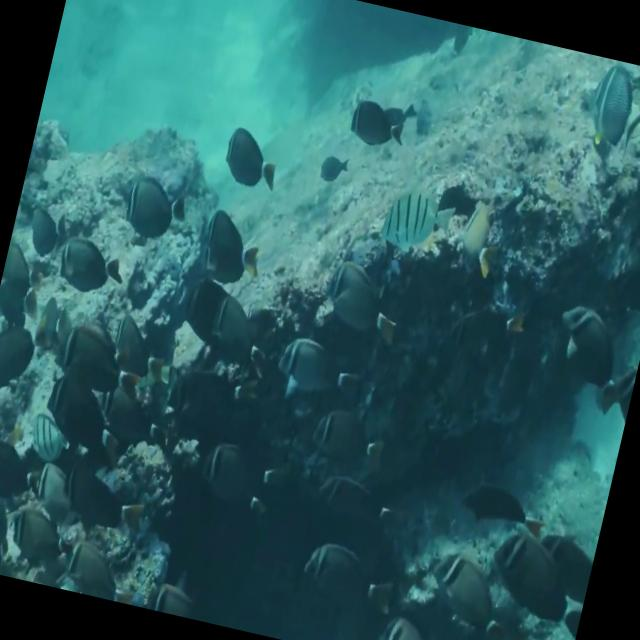fish: (477, 524, 596, 640), (540, 298, 630, 411), (312, 256, 408, 356), (50, 323, 152, 409), (298, 534, 402, 616), (193, 204, 270, 294), (270, 333, 369, 402), (378, 182, 458, 258), (119, 174, 190, 243), (51, 237, 127, 301), (217, 124, 285, 193), (344, 94, 412, 153), (314, 151, 350, 187)
